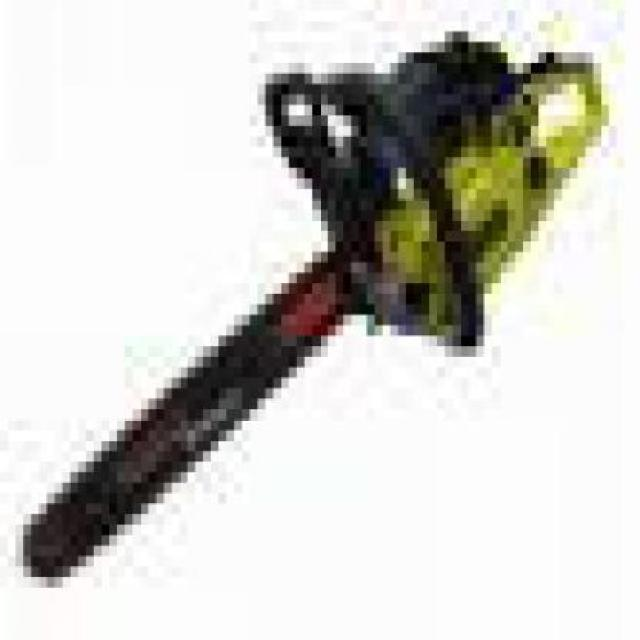Chainsaw: (23, 29, 609, 586)
